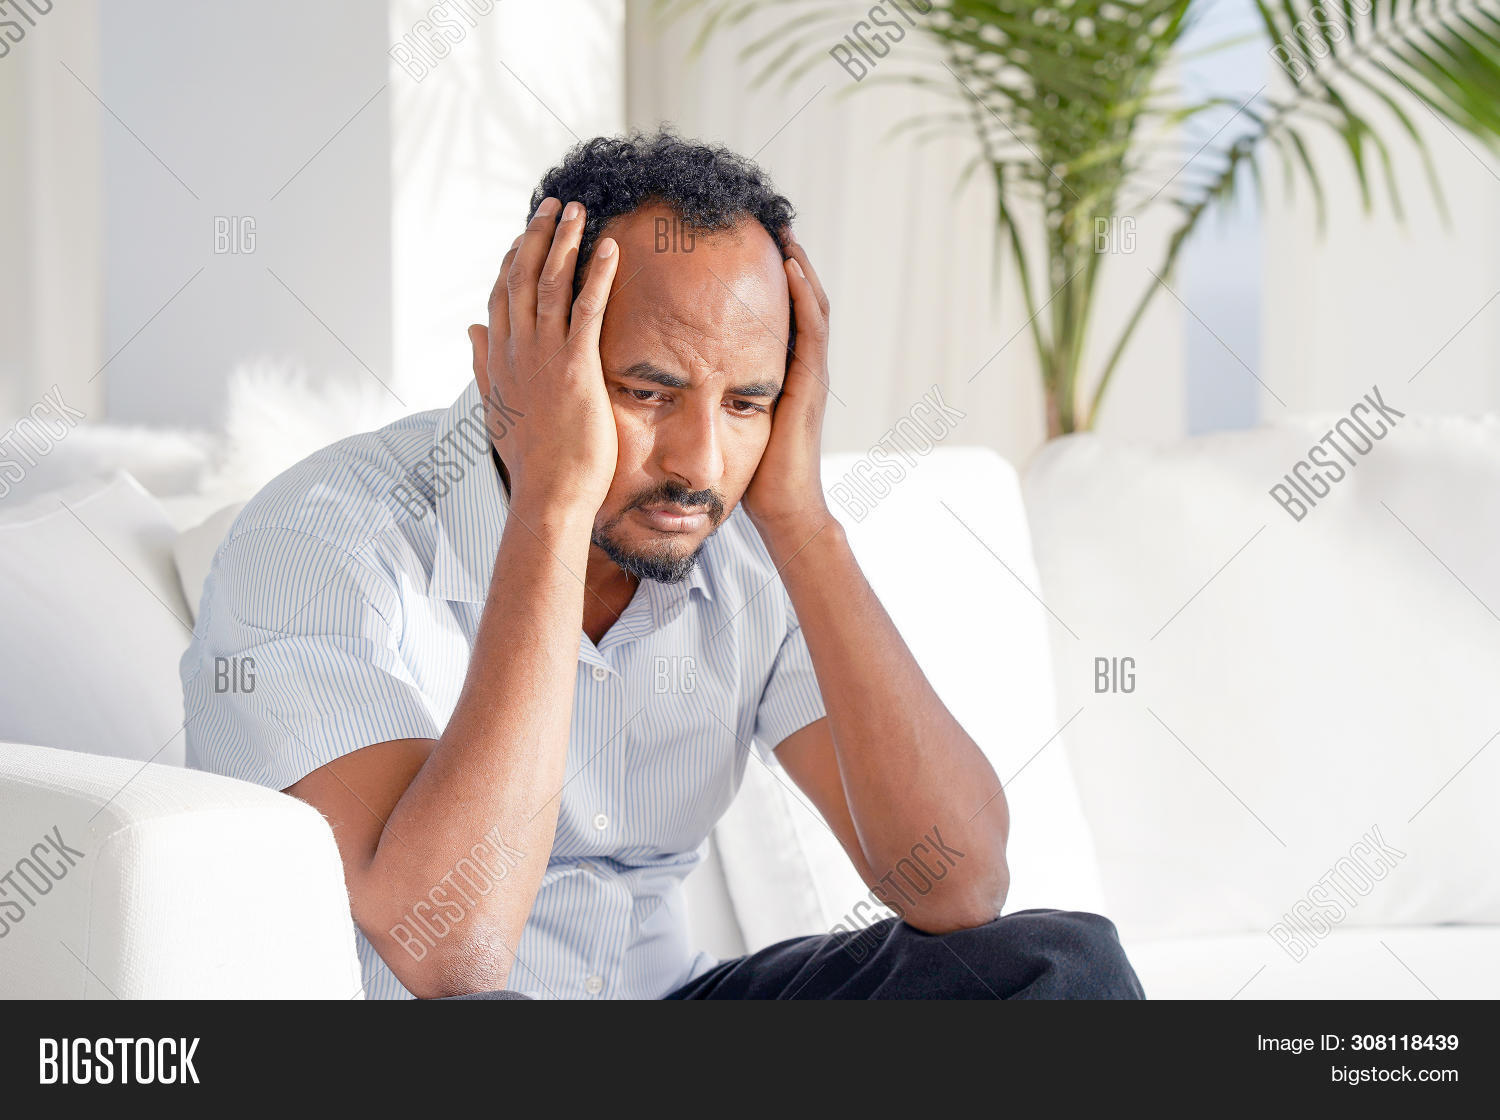NoMask: (597, 348, 778, 587)
